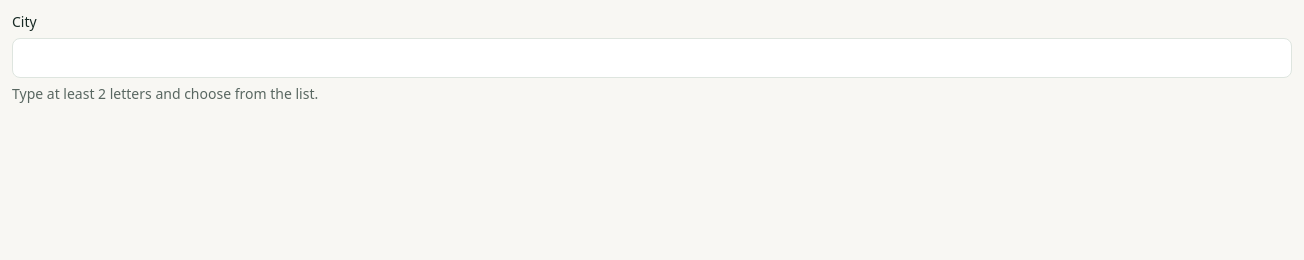
it: the place picker › forgets the choice as soon as the text is edited
The image size is (1304, 260).
Later steps or results of the test are not shown.
Type "pu" into the dropdown labelled "City" at point(652, 58), box left=12, top=38, right=1292, bottom=78
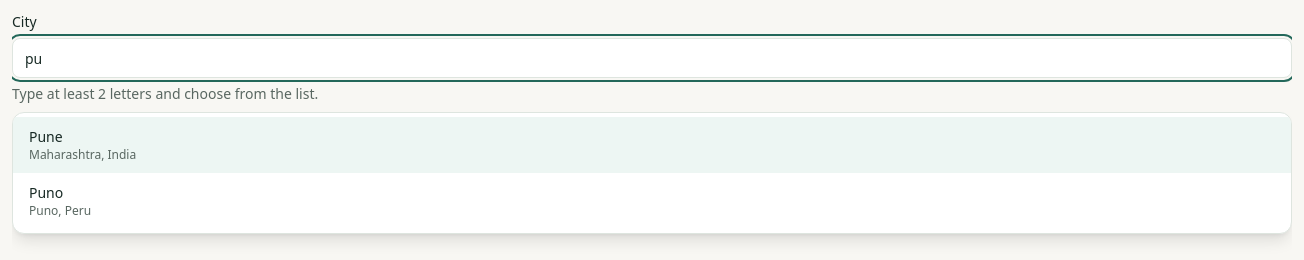
Click the option with aria-label "Pune, Maharashtra, India" at point(46, 136), box left=13, top=117, right=1291, bottom=173
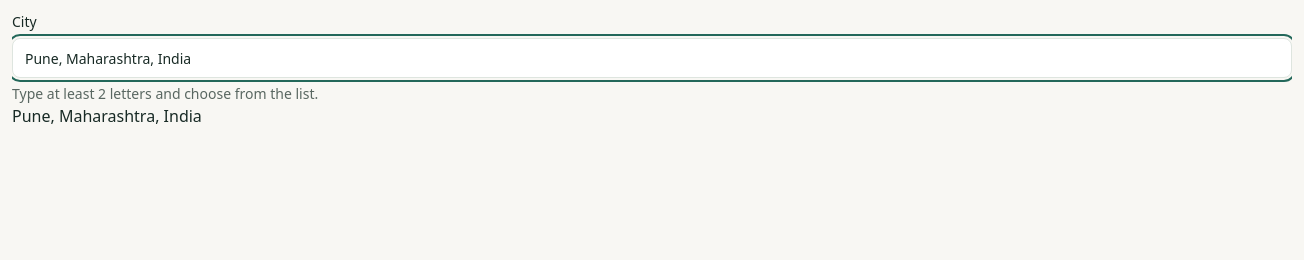
Result: the text with test id "chosen" reads "Pune, Maharashtra, India" at left=12, top=105, right=202, bottom=127
